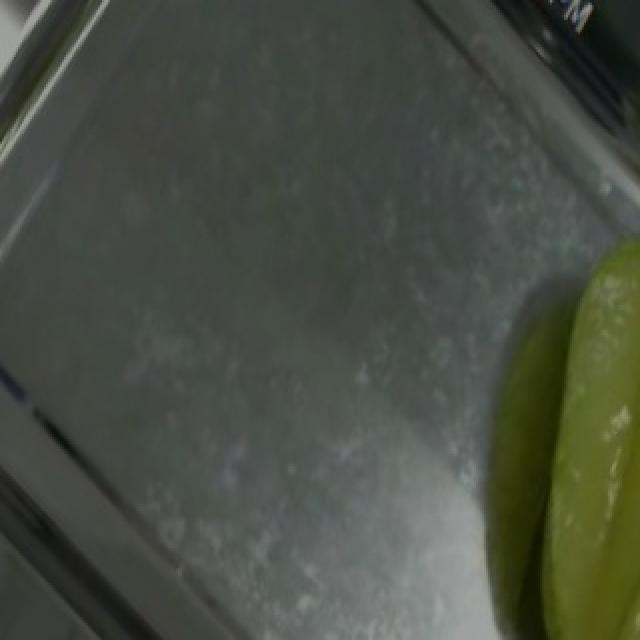fruit: (516, 322, 640, 640)
